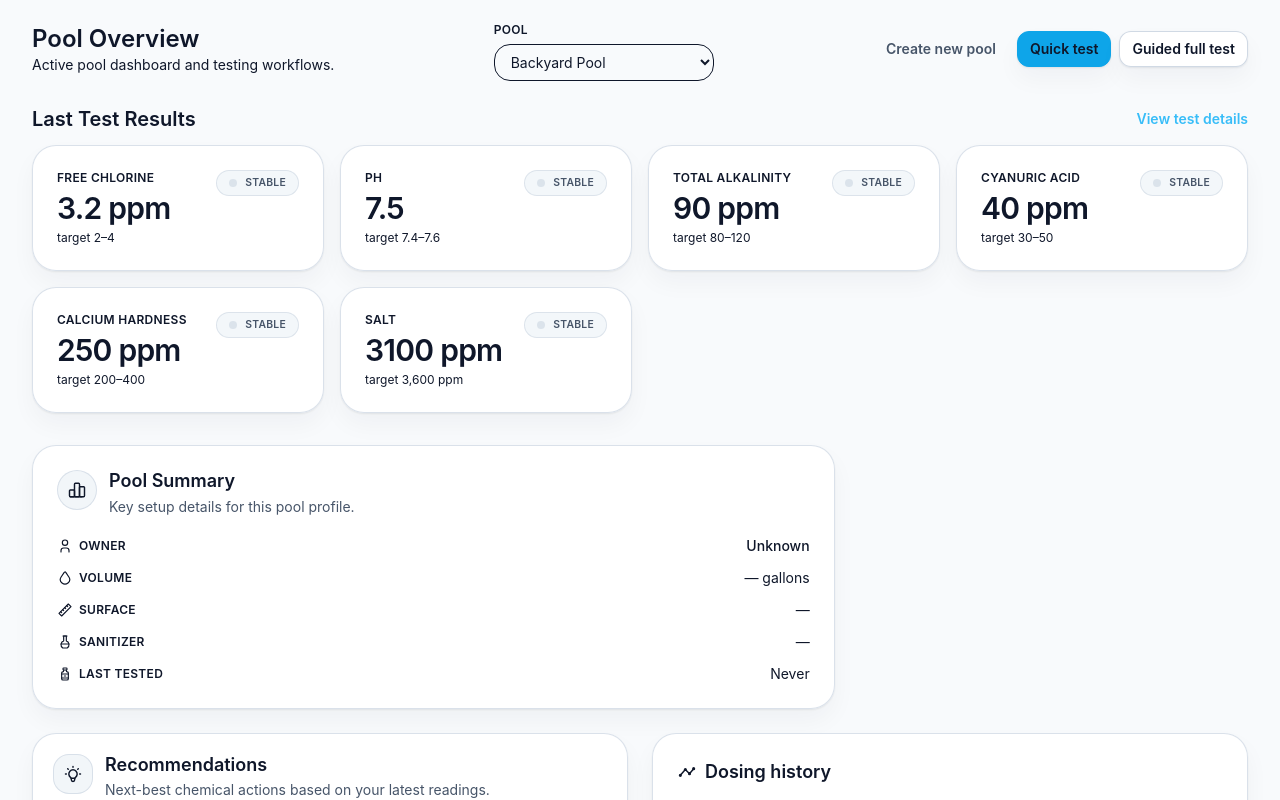
Test: overview page › opens the guided full test dialog from the overview page
Click the button "Guided full test".
click(1184, 48)  # box 1119,30 -> 1248,66
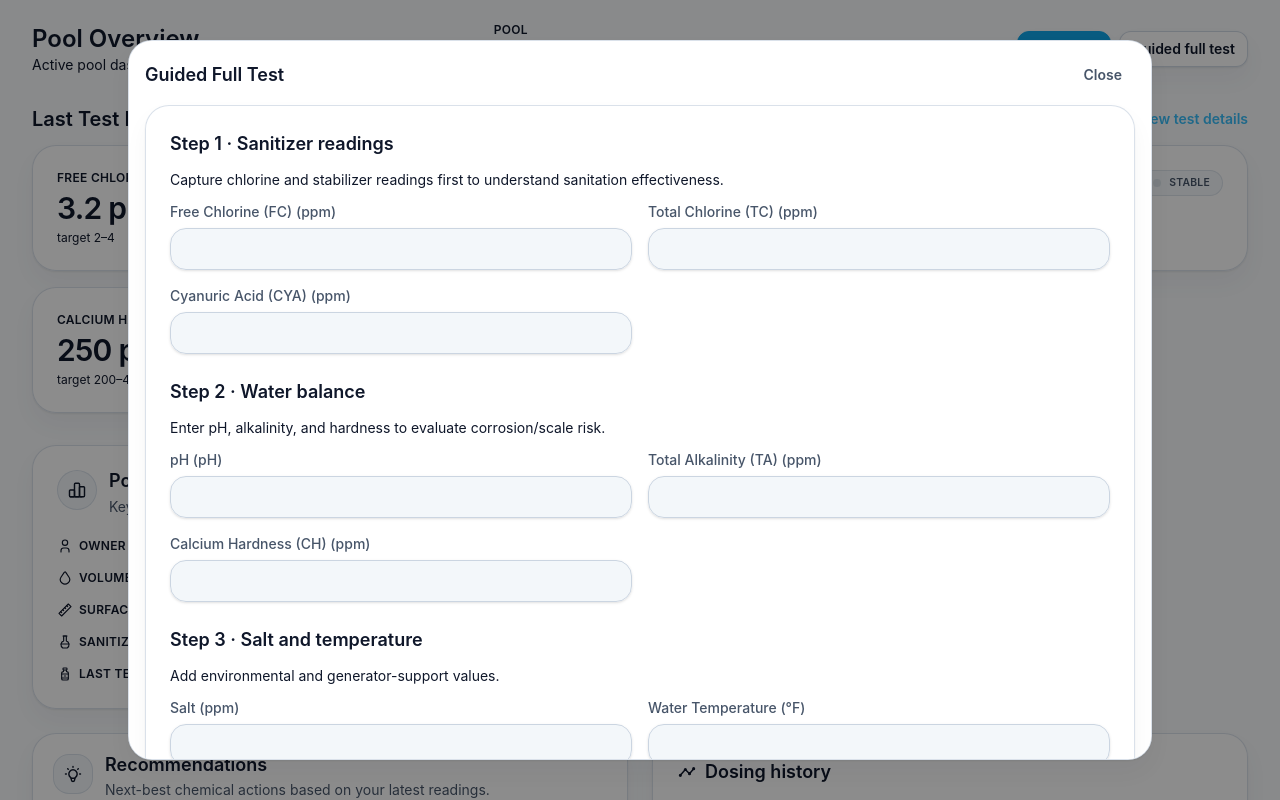
Expected: the dialog named "guided full test dialog" is shown
